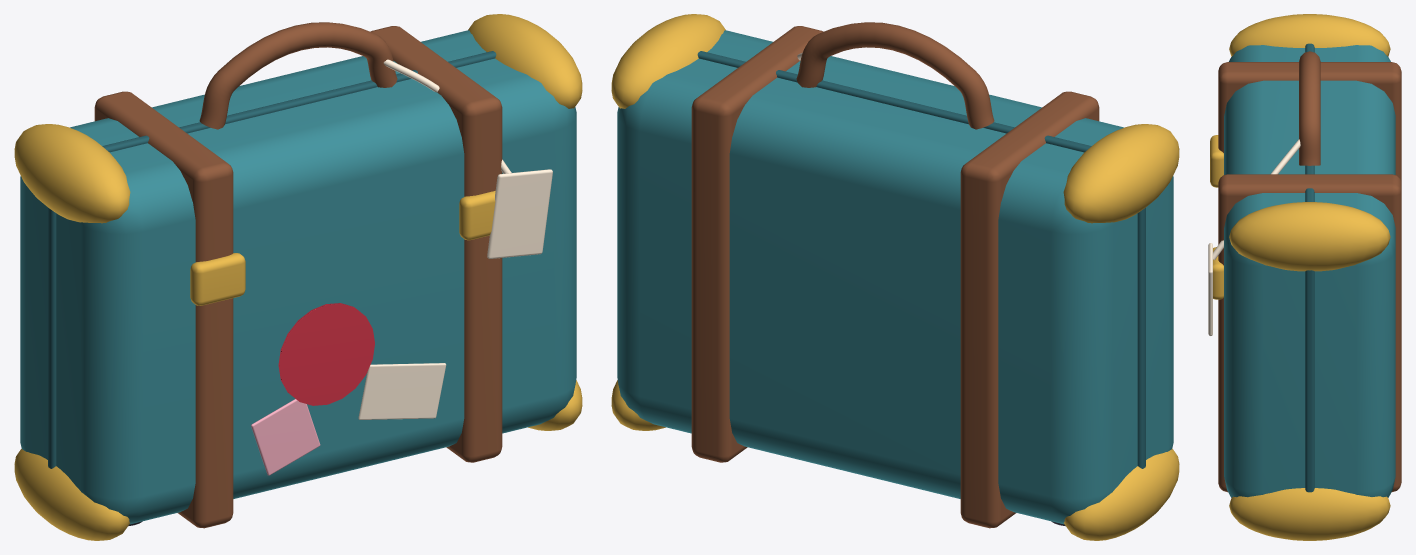
File: suitcase.glb
3 views of the same model, side by side, from view 1: azimuth 30°, elevation 25°; view 2: azimuth 150°, elevation 25°; view 3: azimuth 270°, elevation 25° (orthographic). The views are drawn at different scales.
Visible parts, largest first — view 1: body, strap, strap.001, corner.001, sticker_a, handle, corner.003, corner, tag, seam, sticker_b, sticker_c (+3 smaller); view 2: body, strap, strap.001, corner.001, handle, corner.003, corner, seam, corner.002; view 3: body, corner.003, strap.001, corner.002, strap, corner.001, seam, handle, buckle, tag, buckle.001, tag_string.
Part boxes in pixels (left/top/right/bottom): body: left=20, top=30, right=576, bottom=524; strap: left=94, top=91, right=233, bottom=528; strap.001: left=370, top=26, right=502, bottom=462; corner.001: left=14, top=124, right=130, bottom=223; sticker_a: left=278, top=303, right=374, bottom=405; handle: left=199, top=22, right=397, bottom=129; corner.003: left=468, top=14, right=582, bottom=108; corner: left=14, top=449, right=129, bottom=540; tag: left=487, top=169, right=552, bottom=258; seam: left=48, top=51, right=496, bottom=468; sticker_b: left=358, top=363, right=446, bottom=419; sticker_c: left=251, top=399, right=320, bottom=475; body: left=617, top=30, right=1173, bottom=524; strap: left=960, top=91, right=1099, bottom=528; strap.001: left=691, top=26, right=823, bottom=462; corner.001: left=1063, top=124, right=1179, bottom=223; handle: left=796, top=22, right=994, bottom=129; corner.003: left=611, top=14, right=725, bottom=108; corner: left=1064, top=449, right=1179, bottom=540; seam: left=697, top=51, right=1145, bottom=468; corner.002: left=611, top=380, right=665, bottom=430; body: left=1224, top=45, right=1395, bottom=497; corner.003: left=1229, top=202, right=1390, bottom=271; strap.001: left=1218, top=174, right=1401, bottom=492; corner.002: left=1229, top=488, right=1390, bottom=540; strap: left=1218, top=62, right=1401, bottom=182; corner.001: left=1229, top=14, right=1390, bottom=56; seam: left=1305, top=43, right=1314, bottom=492; handle: left=1299, top=51, right=1320, bottom=165; buckle: left=1210, top=135, right=1223, bottom=187; tag: left=1208, top=243, right=1212, bottom=335; buckle.001: left=1213, top=247, right=1223, bottom=299; tag_string: left=1213, top=139, right=1300, bottom=260.
Bounding box in the file's own units: 0.66 × 0.5435 × 0.2475.
